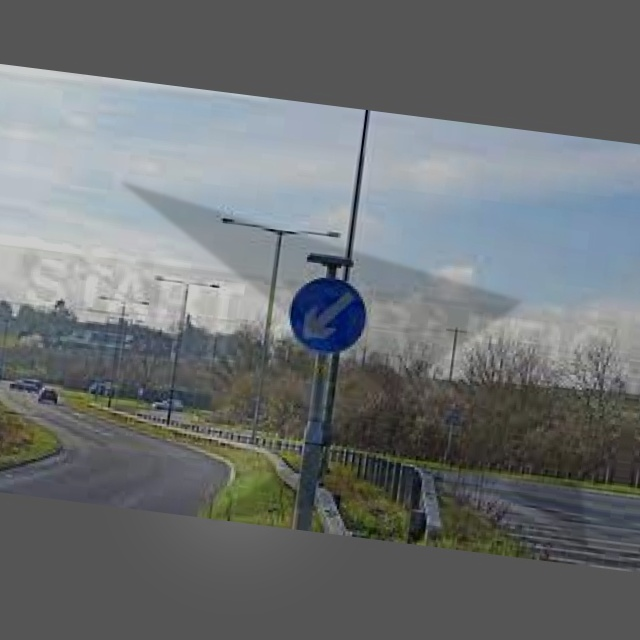Compulsory_Keep_Left: (286, 269, 370, 361)
